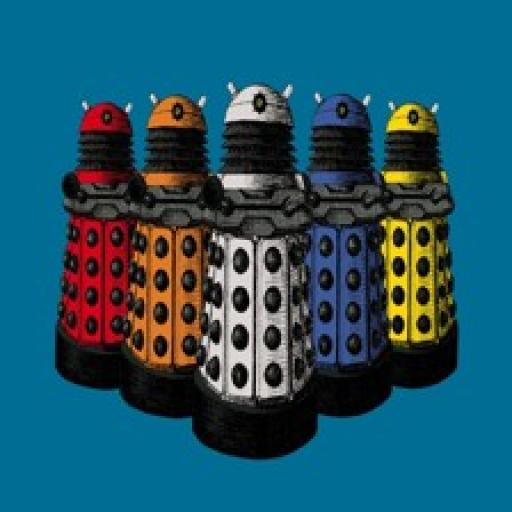dalek: (188, 78, 316, 455), (295, 88, 396, 415), (119, 85, 214, 420), (368, 98, 462, 391), (50, 95, 137, 386)
